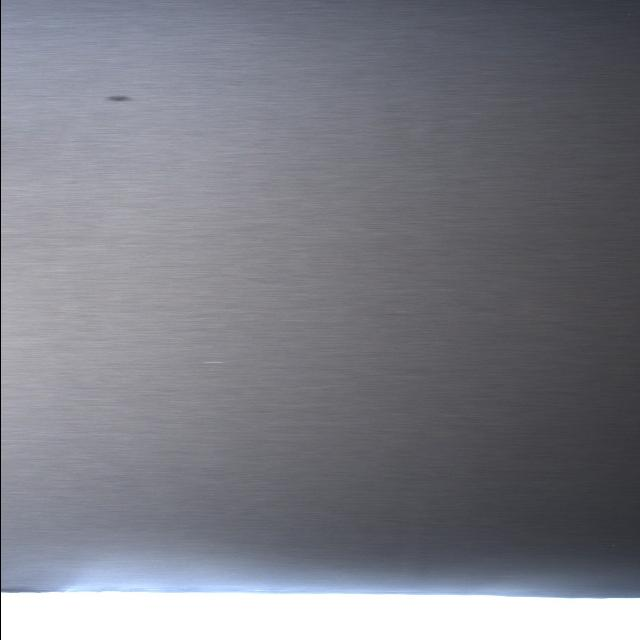whiteDefect: (194, 360, 230, 365)
